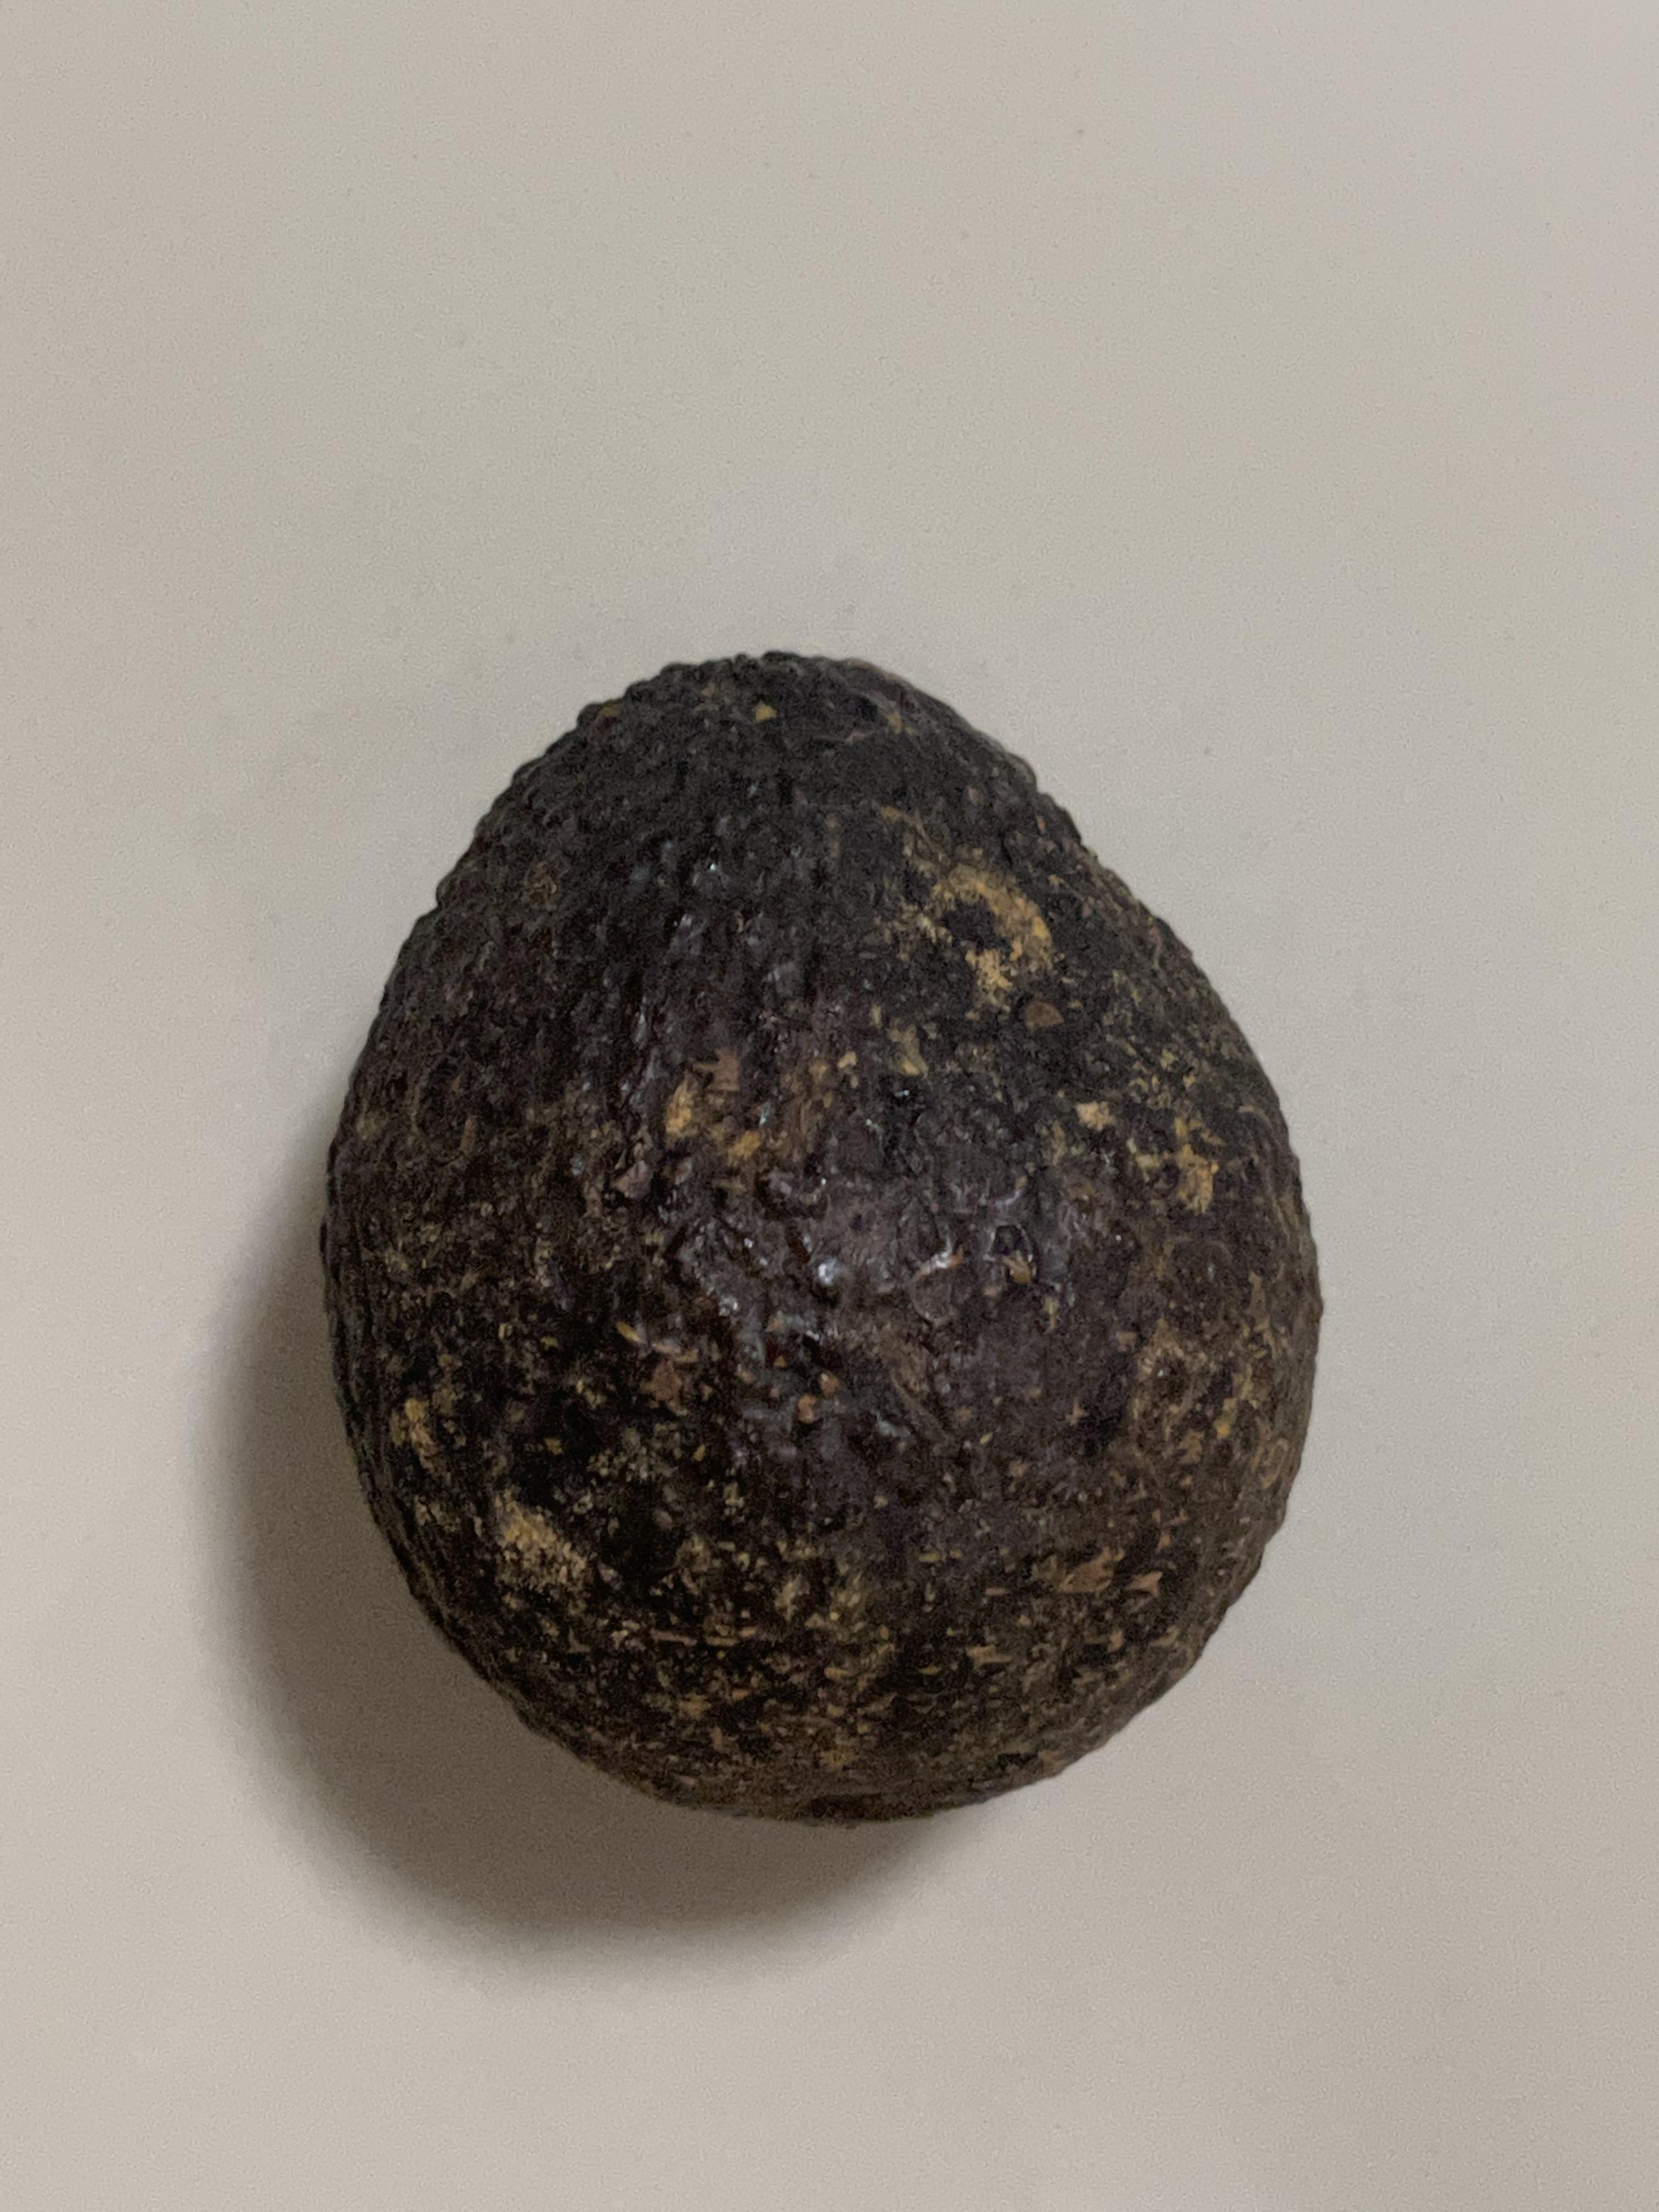Level4: (296, 615, 1356, 1844)
